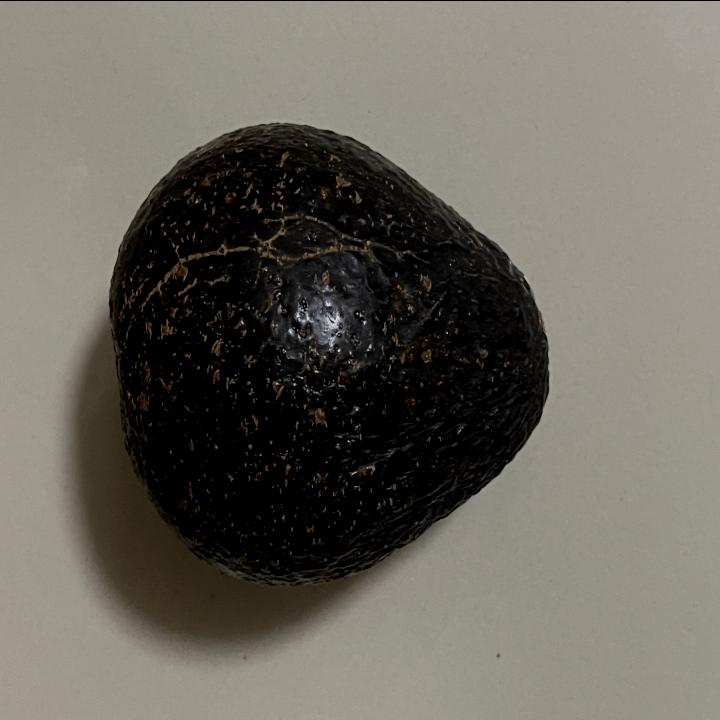Level2: (103, 114, 558, 594)
